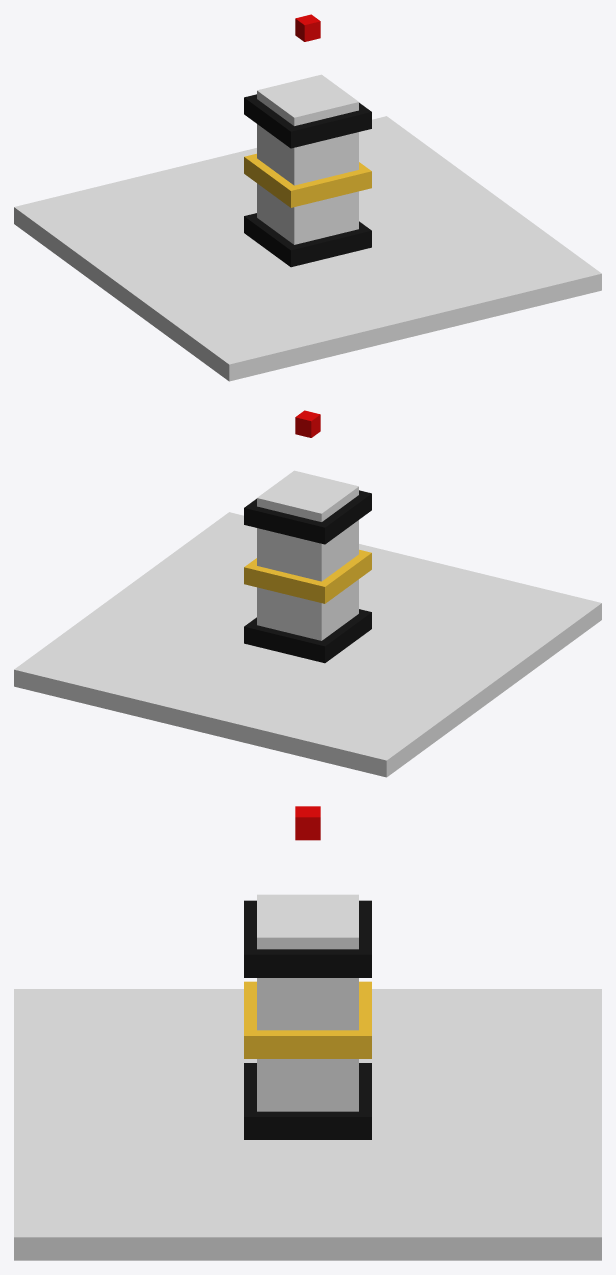
The model's file is floor-pedestral.glb.
3 views of the same model, one above another, from view 1: azimuth 30°, elevation 25°; view 2: azimuth 150°, elevation 25°; view 3: azimuth 270°, elevation 25° (orthographic). The views are drawn at different scales.
Visible parts, largest first — view 1: floor-pedestal, object; view 2: floor-pedestal, object; view 3: floor-pedestal, object.
Boxes of the visible parts, x1,y1,x2,y2 form: floor-pedestal: (14,74,601,381); object: (295,14,320,41); floor-pedestal: (14,470,601,777); object: (295,410,320,437); floor-pedestal: (14,894,601,1260); object: (295,806,320,840).
Size of the model in its own units: 4.6 by 2.8 by 4.6.
2 materials, 2 textured.
